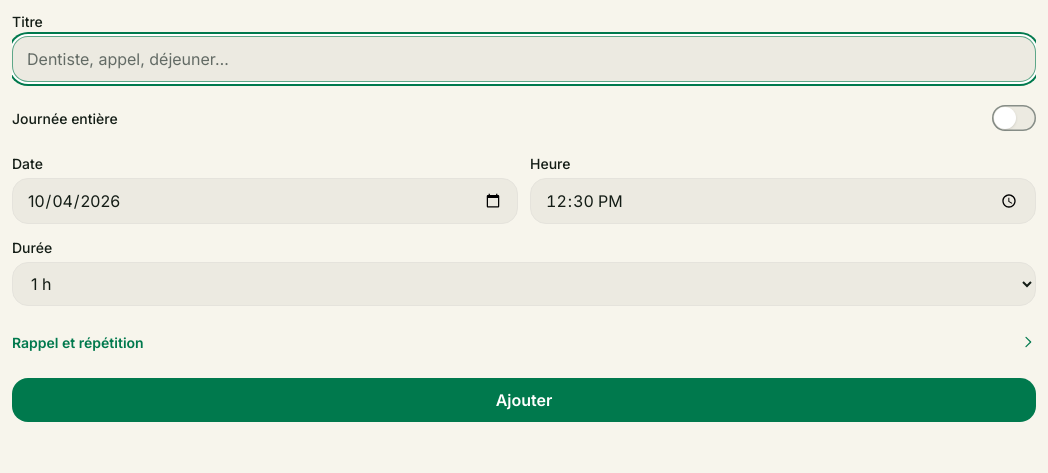
Test: EvenementForm › refuse un titre vide sans appeler le serveur
Click the button "Ajouter" at x=524, y=400, box [12,378,1036,422]
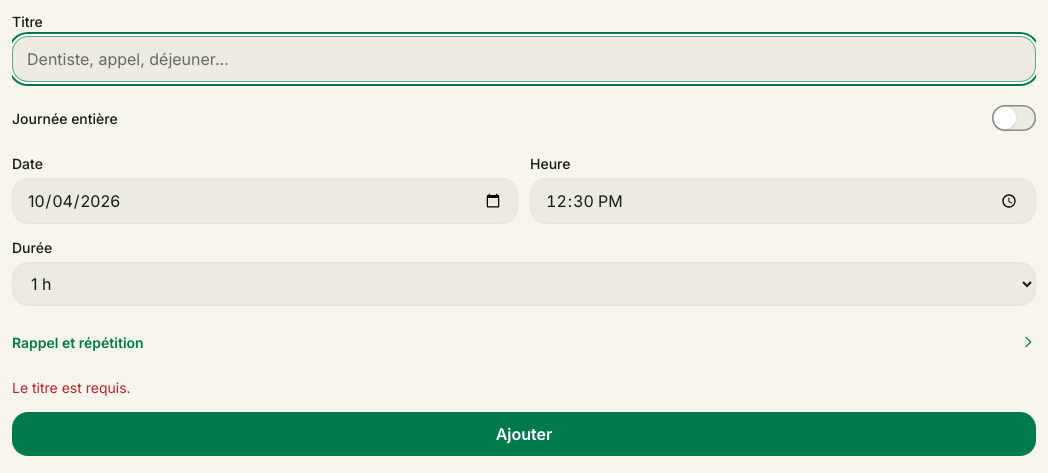
Now the message reads "Le titre est requis.", box [12,379,131,396]
